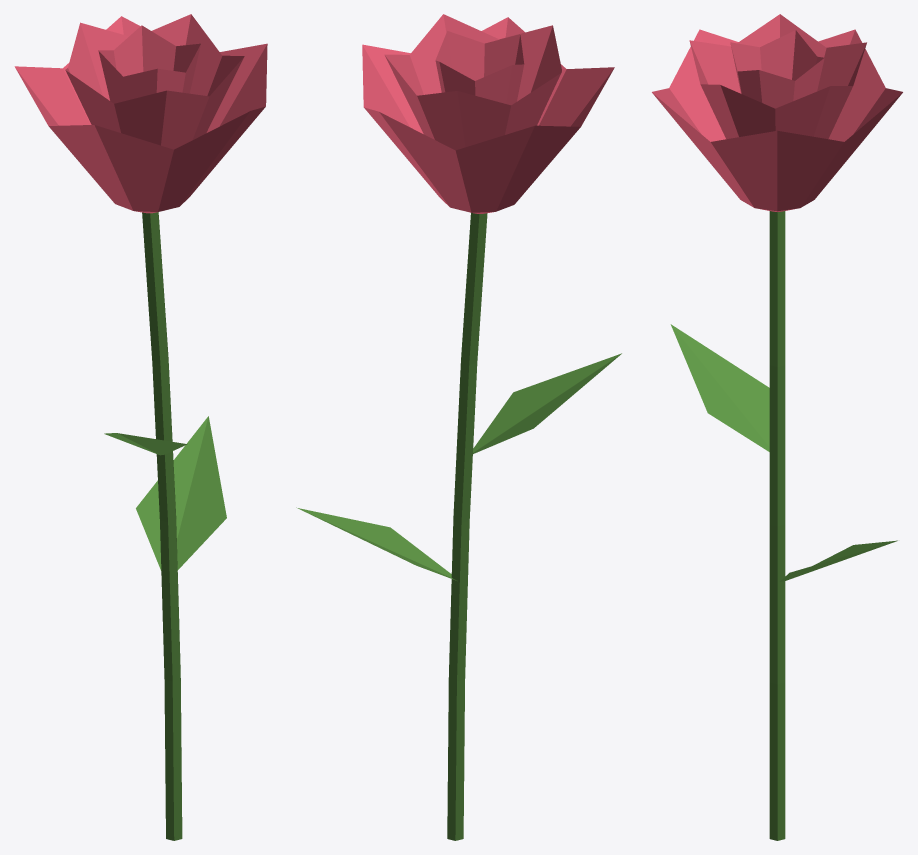
File: rose.glb
The picture shows the model from 3 angles, left to right: view 1: azimuth 30°, elevation 25°; view 2: azimuth 150°, elevation 25°; view 3: azimuth 270°, elevation 25°; orthographic projection. The views are drawn at different scales.
Parts seen in each view (by area): view 1: rose; view 2: rose; view 3: rose.
Part boxes in pixels (x1,y1,x2,y2): rose: (14,14,267,840); rose: (296,14,621,840); rose: (652,14,902,840).
Size of the model in its own units: 0.1093 by 0.3732 by 0.1099.
